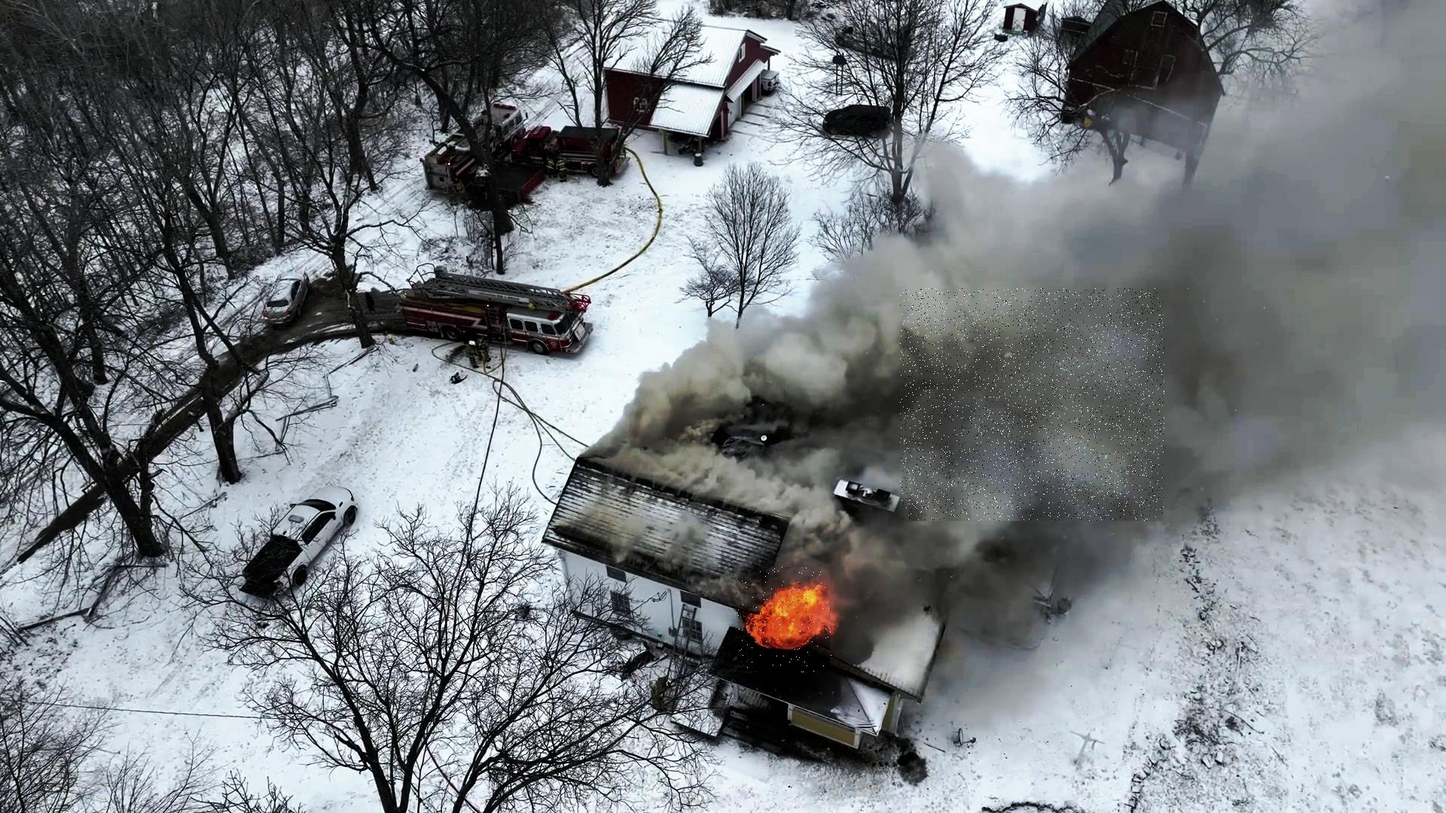fire: (739, 567, 832, 673)
smoke: (900, 288, 1165, 521)
